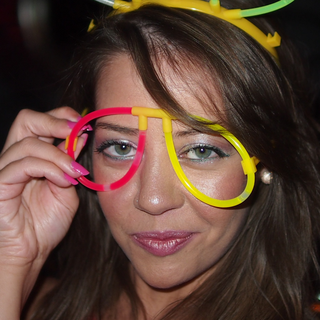eye: (184, 139, 230, 163), (96, 136, 136, 161)
